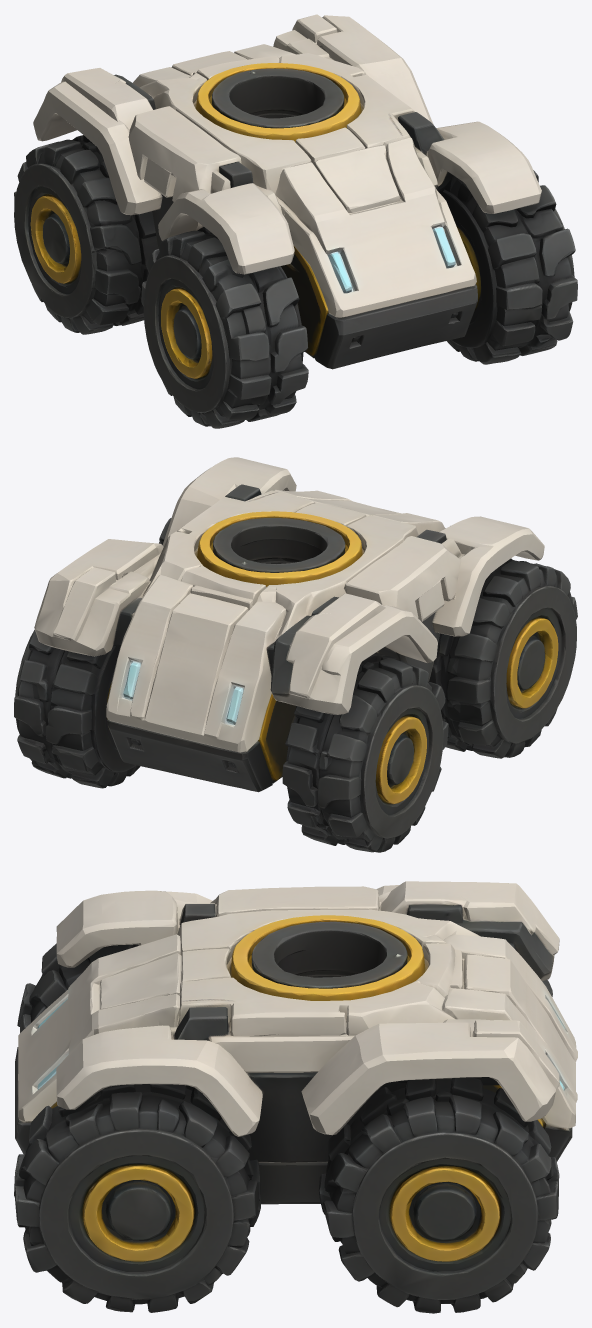
File: scout_wheels.glb
3 renders of one model, top to bottom at view 1: azimuth 30°, elevation 25°; view 2: azimuth 150°, elevation 25°; view 3: azimuth 270°, elevation 25°, orthographic. The views are drawn at different scales.
Visible parts, largest first — view 1: model; view 2: model; view 3: model.
Boxes of the visible parts, left/top/right/bottom form: model: left=14, top=14, right=577, bottom=428; model: left=14, top=457, right=577, bottom=852; model: left=14, top=881, right=577, bottom=1313.
Size of the model in its own units: 1.6 by 0.9997 by 1.89.
Materials: 1 (1 with a texture image).
